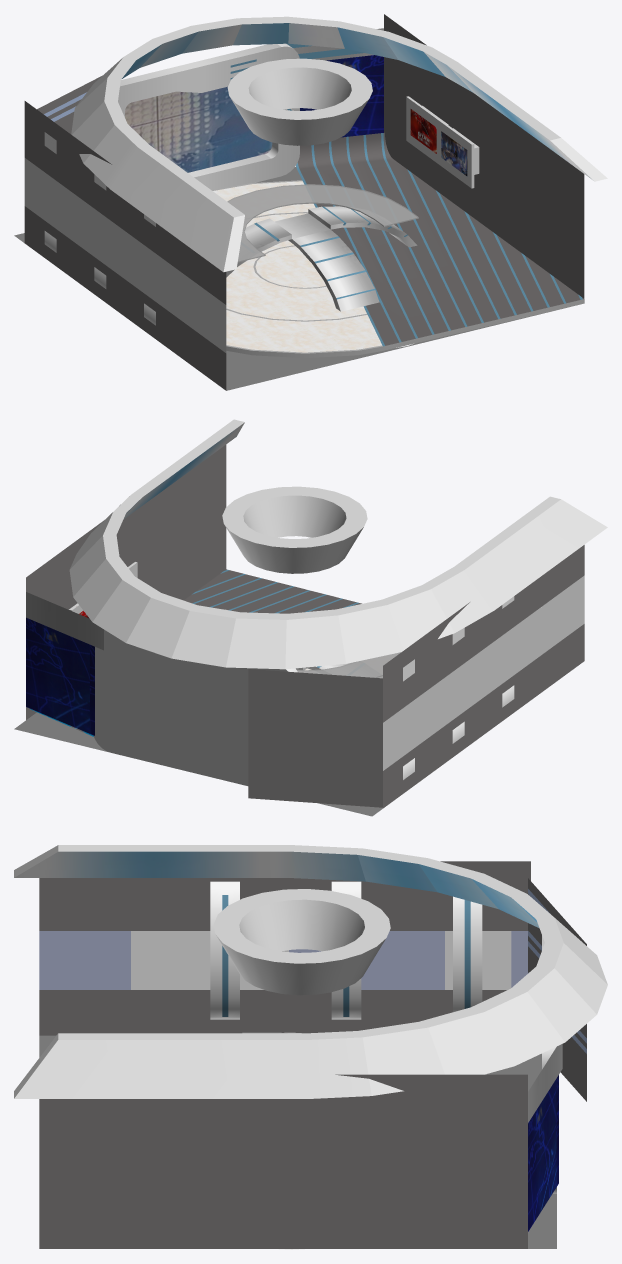
The model's file is star.glb.
The picture shows the model from 3 angles, top to bottom: view 1: azimuth 30°, elevation 25°; view 2: azimuth 150°, elevation 25°; view 3: azimuth 270°, elevation 25°; orthographic projection. The views are drawn at different scales.
Visible parts, largest first — view 1: Material2 (×24), Material3 (×13); view 2: Material2 (×29), Material3 (×5); view 3: Material2 (×11), Material3 (×6).
Boxes of the visible parts, bbox=[...] form: Material2 (×24): bbox=[14, 14, 607, 390]; Material3 (×13): bbox=[118, 23, 593, 352]; Material2 (×29): bbox=[14, 419, 607, 816]; Material3 (×5): bbox=[123, 422, 308, 612]; Material2 (×11): bbox=[14, 845, 607, 1248]; Material3 (×6): bbox=[14, 851, 539, 989].
Size of the model in its own units: 337 by 149 by 369.
Materials: 24 (9 with a texture image).
